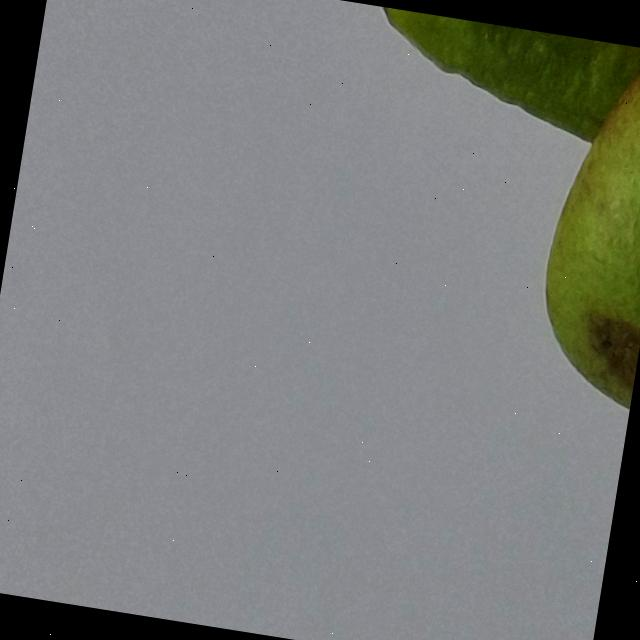mangosteen: (378, 21, 640, 640)
